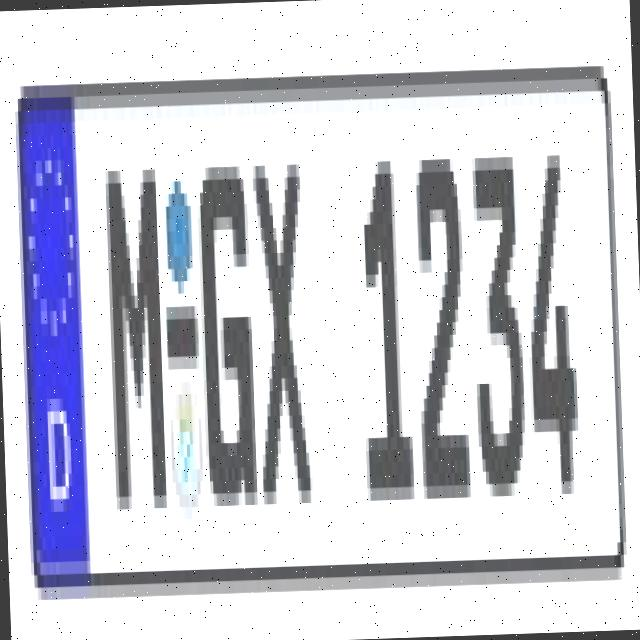Allemagne: (19, 99, 89, 562)
EU: (19, 88, 617, 565)
